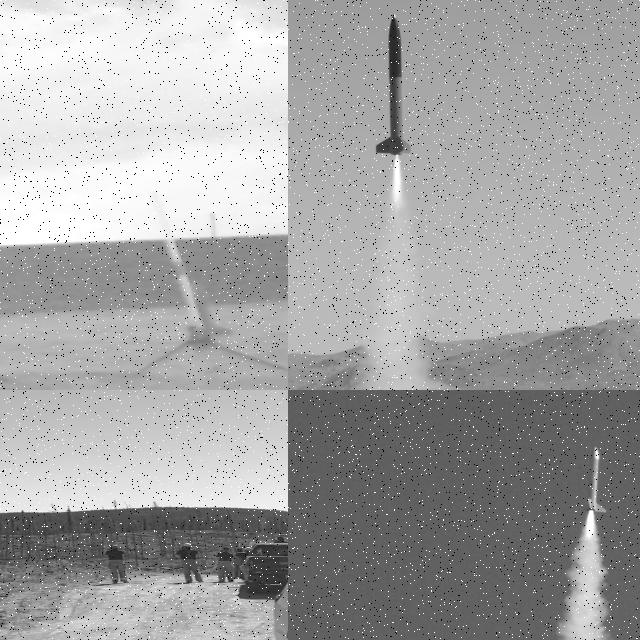Rocket: (376, 12, 414, 156), (186, 279, 239, 337), (578, 446, 607, 514)
